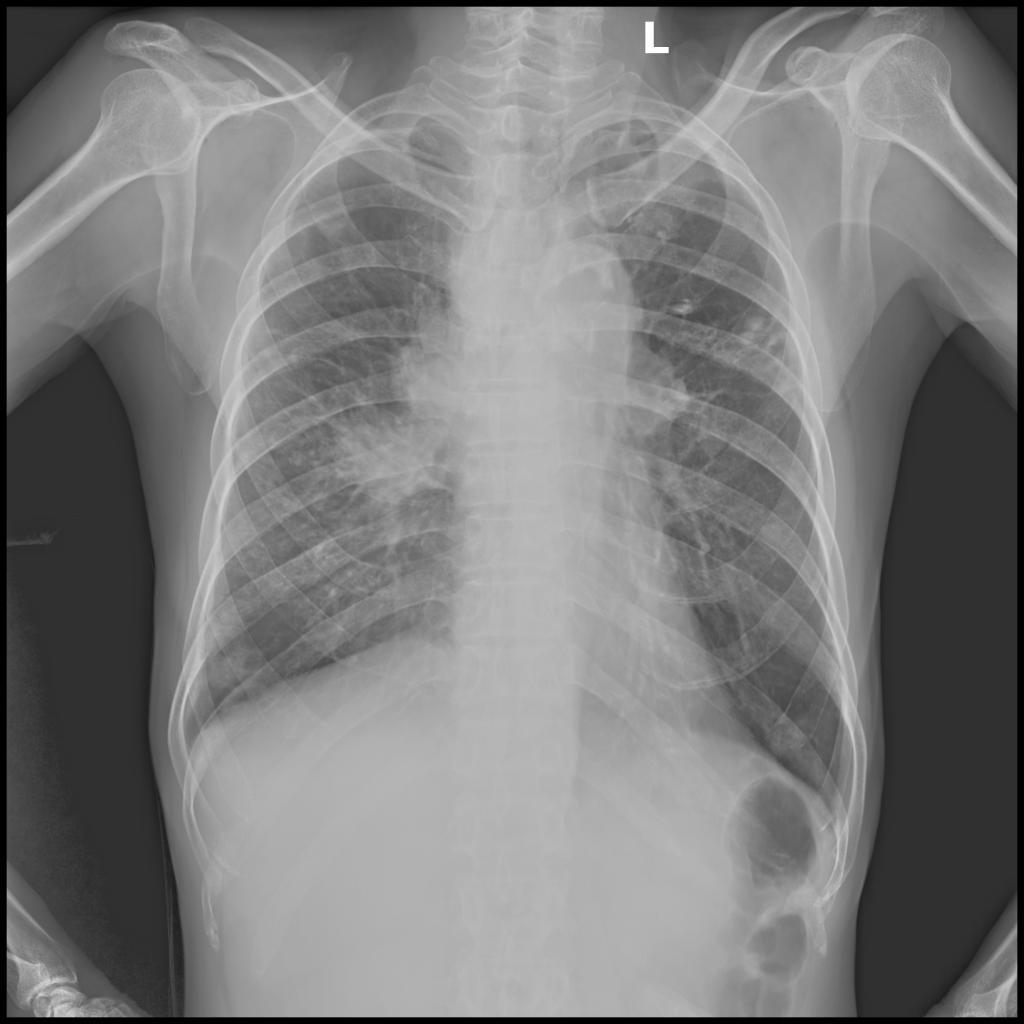Nodule: (603, 337, 692, 437), (339, 408, 434, 501), (407, 338, 455, 420)
